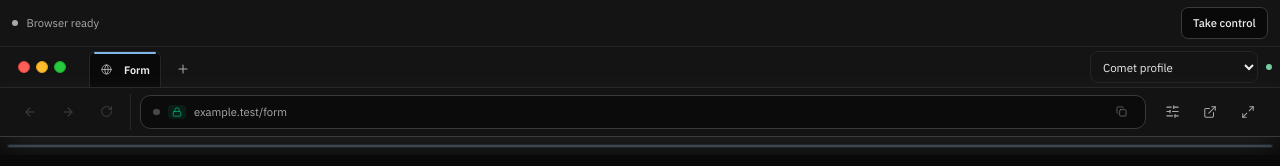
Test: takes control without resizing the external browser and uses a single handoff action
The width and height of the screenshot is (1280, 166).
Click the button "Take control": (1224, 23) [1181, 7, 1268, 39]
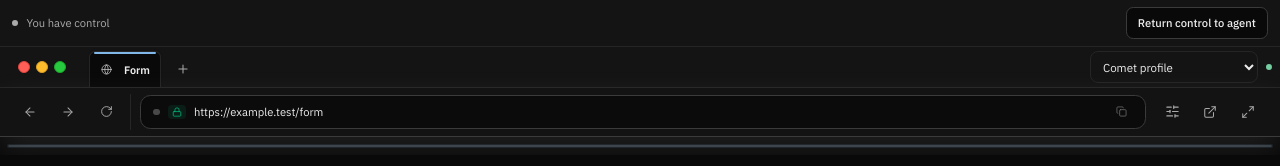
Expected: the number of buttons "Return control to agent" is 1, [1126, 7, 1268, 39]
Expected: the text "You have control" is shown, [26, 15, 110, 32]
